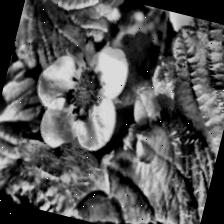Blossom Blight: (58, 58, 112, 126)
